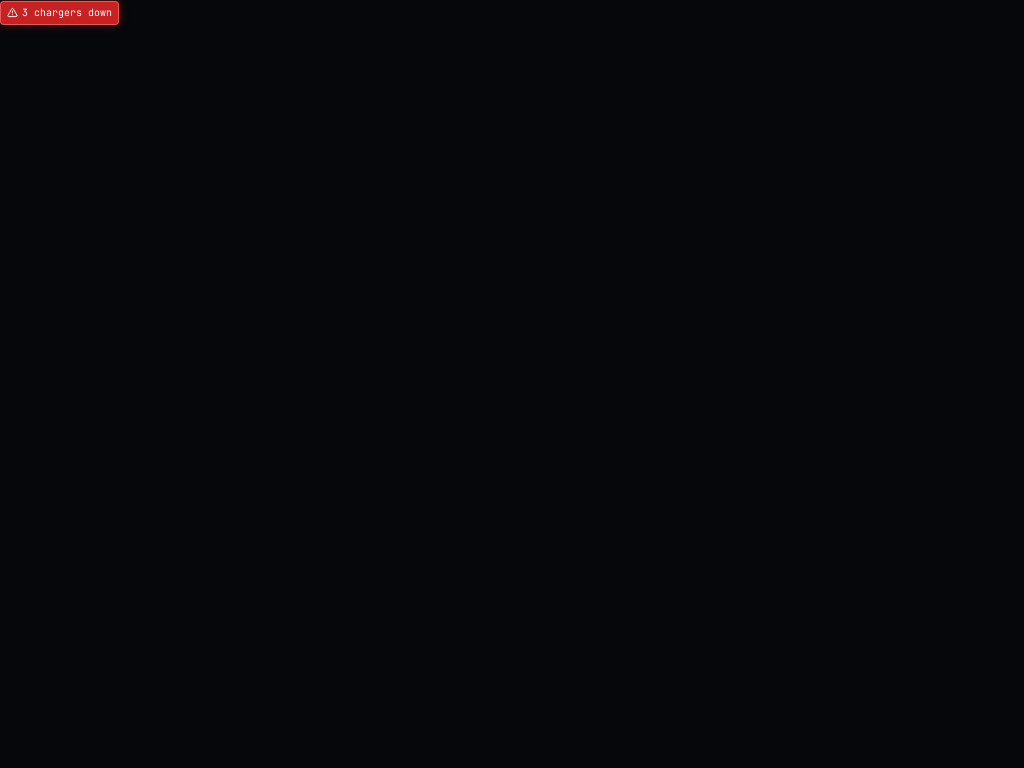
Test: ChargersDownChip › counts the chargers down, lists each by name with why and until when, and says no car is sent
Click the button with test id "chargers-down": (60, 12) [0,0,119,24]
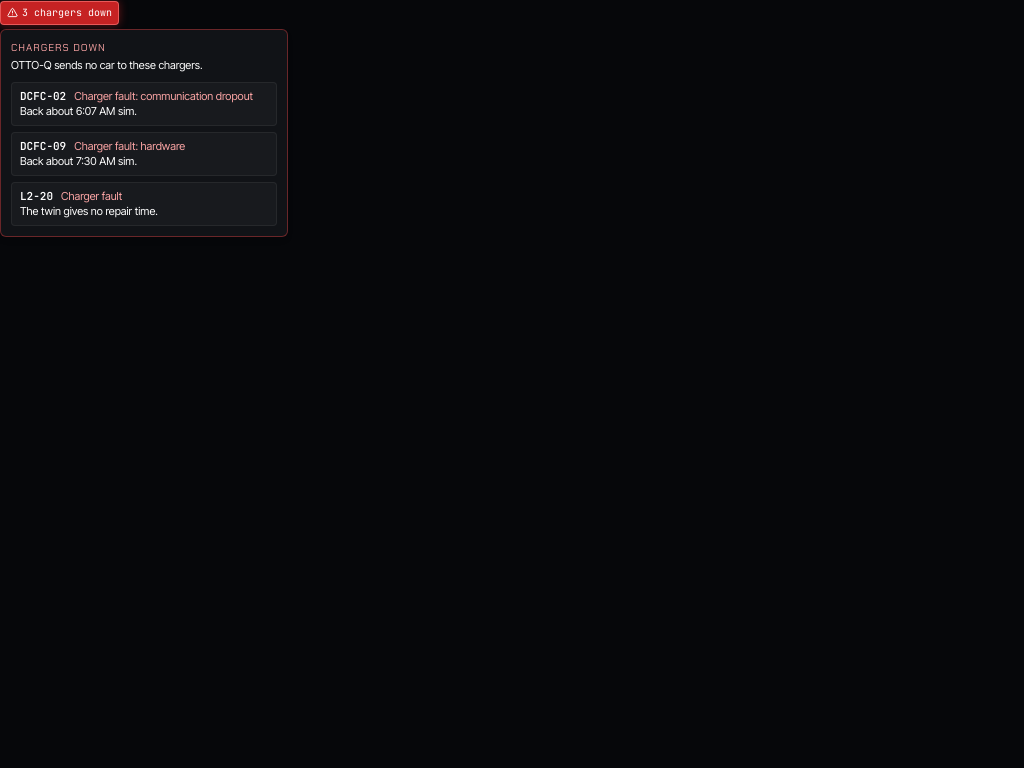
Check: the text "OTTO-Q sends no car to these chargers." is shown, box [11,58,203,72]
Check: the list items read "DCFC-02Charger fault: communication dropoutBack about 6:07 AM sim.", "DCFC-09Charger fault: hardwareBack about 7:30 AM sim.", "L2-20Charger faultThe twin gives no repair time.", in this order, box [11,82,277,126]; [11,132,277,176]; [11,182,277,226]
